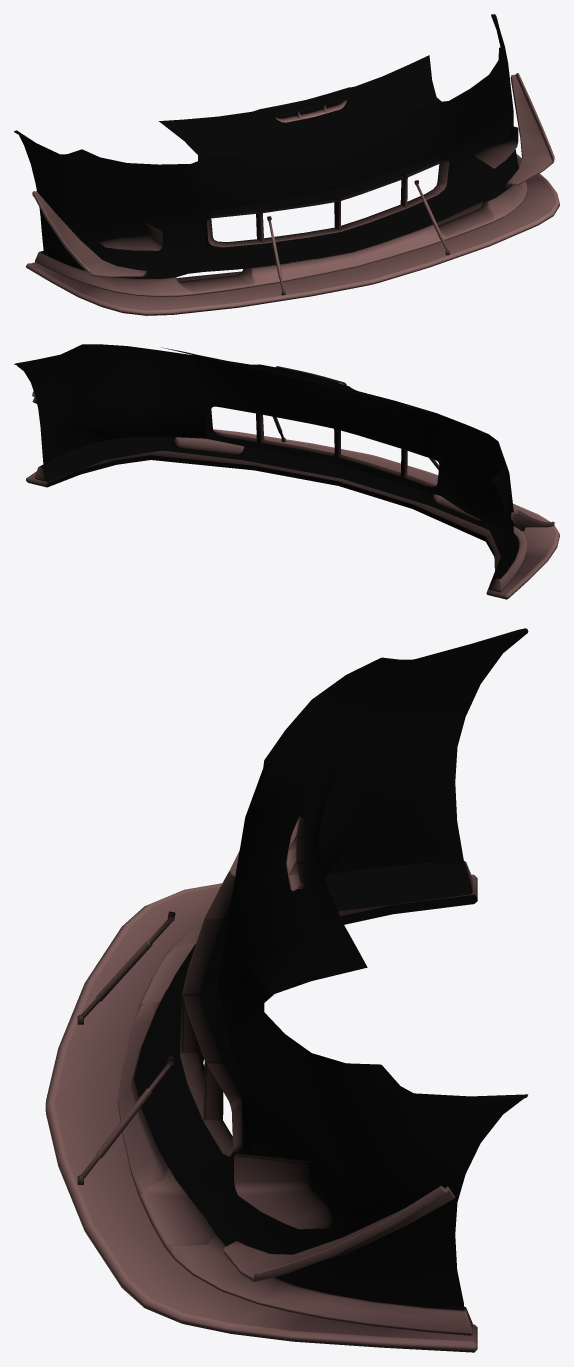
The model's file is Zr1_FB_04_Trim.fbx.
3 renders of one model, top to bottom at view 1: azimuth 30°, elevation 25°; view 2: azimuth 150°, elevation 25°; view 3: azimuth 270°, elevation 25°, orthographic. The views are drawn at different scales.
Parts seen in each view (by area): view 1: Zr1_FB_04_Trim; view 2: Zr1_FB_04_Trim; view 3: Zr1_FB_04_Trim.
Part boxes in pixels (bbox=[...]): Zr1_FB_04_Trim: bbox=[14, 14, 559, 315]; Zr1_FB_04_Trim: bbox=[14, 344, 559, 599]; Zr1_FB_04_Trim: bbox=[45, 628, 528, 1352].
Bounding box in the file's own units: 189 × 52.58 × 81.14.
